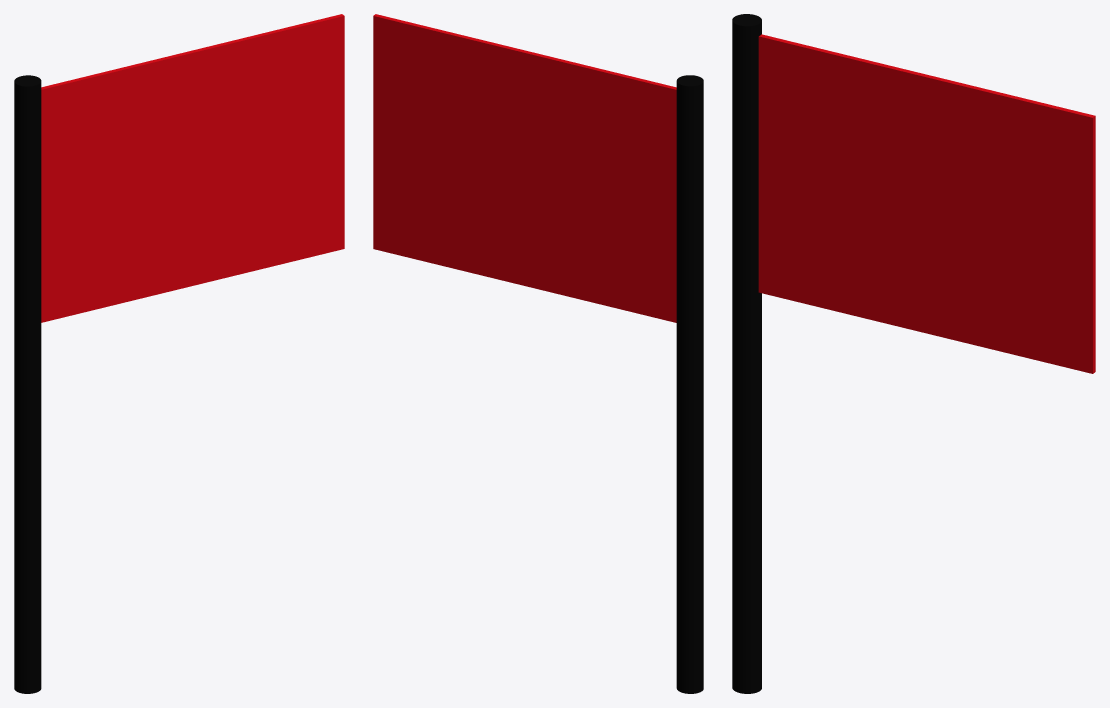
The model's file is RedFlag.fbx.
3 renders of one model, left to right at view 1: azimuth 30°, elevation 25°; view 2: azimuth 150°, elevation 25°; view 3: azimuth 330°, elevation 25°, orthographic. The views are drawn at different scales.
Parts seen in each view (by area): view 1: Cube, Cylinder; view 2: Cube, Cylinder; view 3: Cube, Cylinder.
Boxes of the visible parts, x1,y1,x2,y2 form: Cube: (41, 14, 344, 322); Cylinder: (14, 75, 41, 693); Cube: (373, 14, 676, 322); Cylinder: (676, 75, 703, 693); Cube: (758, 34, 1095, 373); Cylinder: (732, 14, 761, 693).
Bounding box in the file's own units: 294 × 521 × 20.61.
